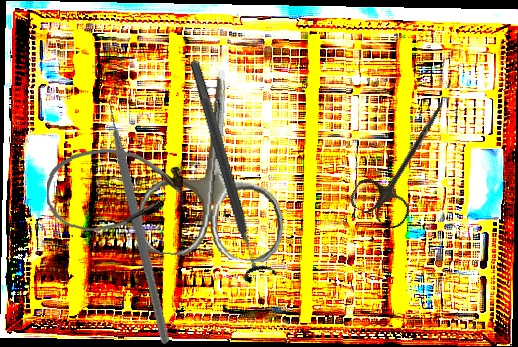Cannula: (45, 145, 185, 234)
Chopper: (12, 82, 275, 346)
Fixation Ring: (176, 55, 279, 287)
Iris Scissors: (133, 63, 297, 265), (346, 86, 466, 233)
